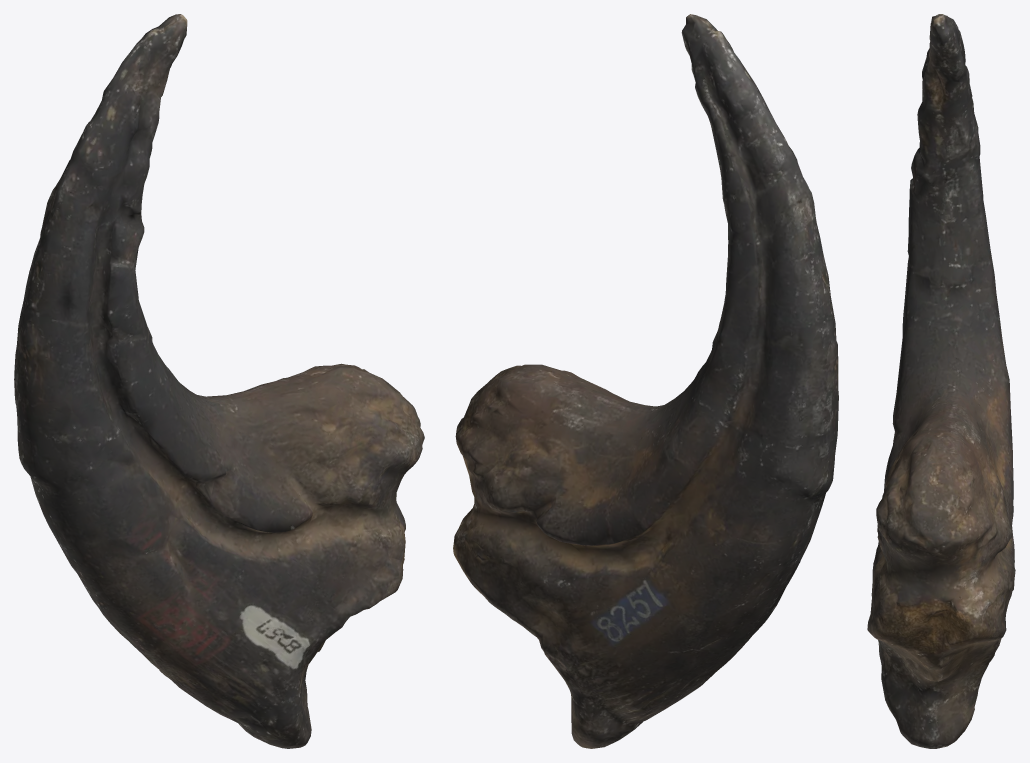
Rendered from allosaurus-claw.glb.
3 views of the same model, side by side, from view 1: azimuth 30°, elevation 25°; view 2: azimuth 150°, elevation 25°; view 3: azimuth 270°, elevation 25° (orthographic). The views are drawn at different scales.
Parts seen in each view (by area): view 1: Allosaurus_fragilis_Marsh__1877-unwrapped-webmulti; view 2: Allosaurus_fragilis_Marsh__1877-unwrapped-webmulti; view 3: Allosaurus_fragilis_Marsh__1877-unwrapped-webmulti.
Part boxes in pixels (<box>): Allosaurus_fragilis_Marsh__1877-unwrapped-webmulti: <box>14,14,424,748</box>; Allosaurus_fragilis_Marsh__1877-unwrapped-webmulti: <box>453,14,838,748</box>; Allosaurus_fragilis_Marsh__1877-unwrapped-webmulti: <box>867,14,1015,748</box>.
Bounding box in the file's own units: 0.0782 × 0.147 × 0.0288.
Materials: 1 (1 with a texture image).
